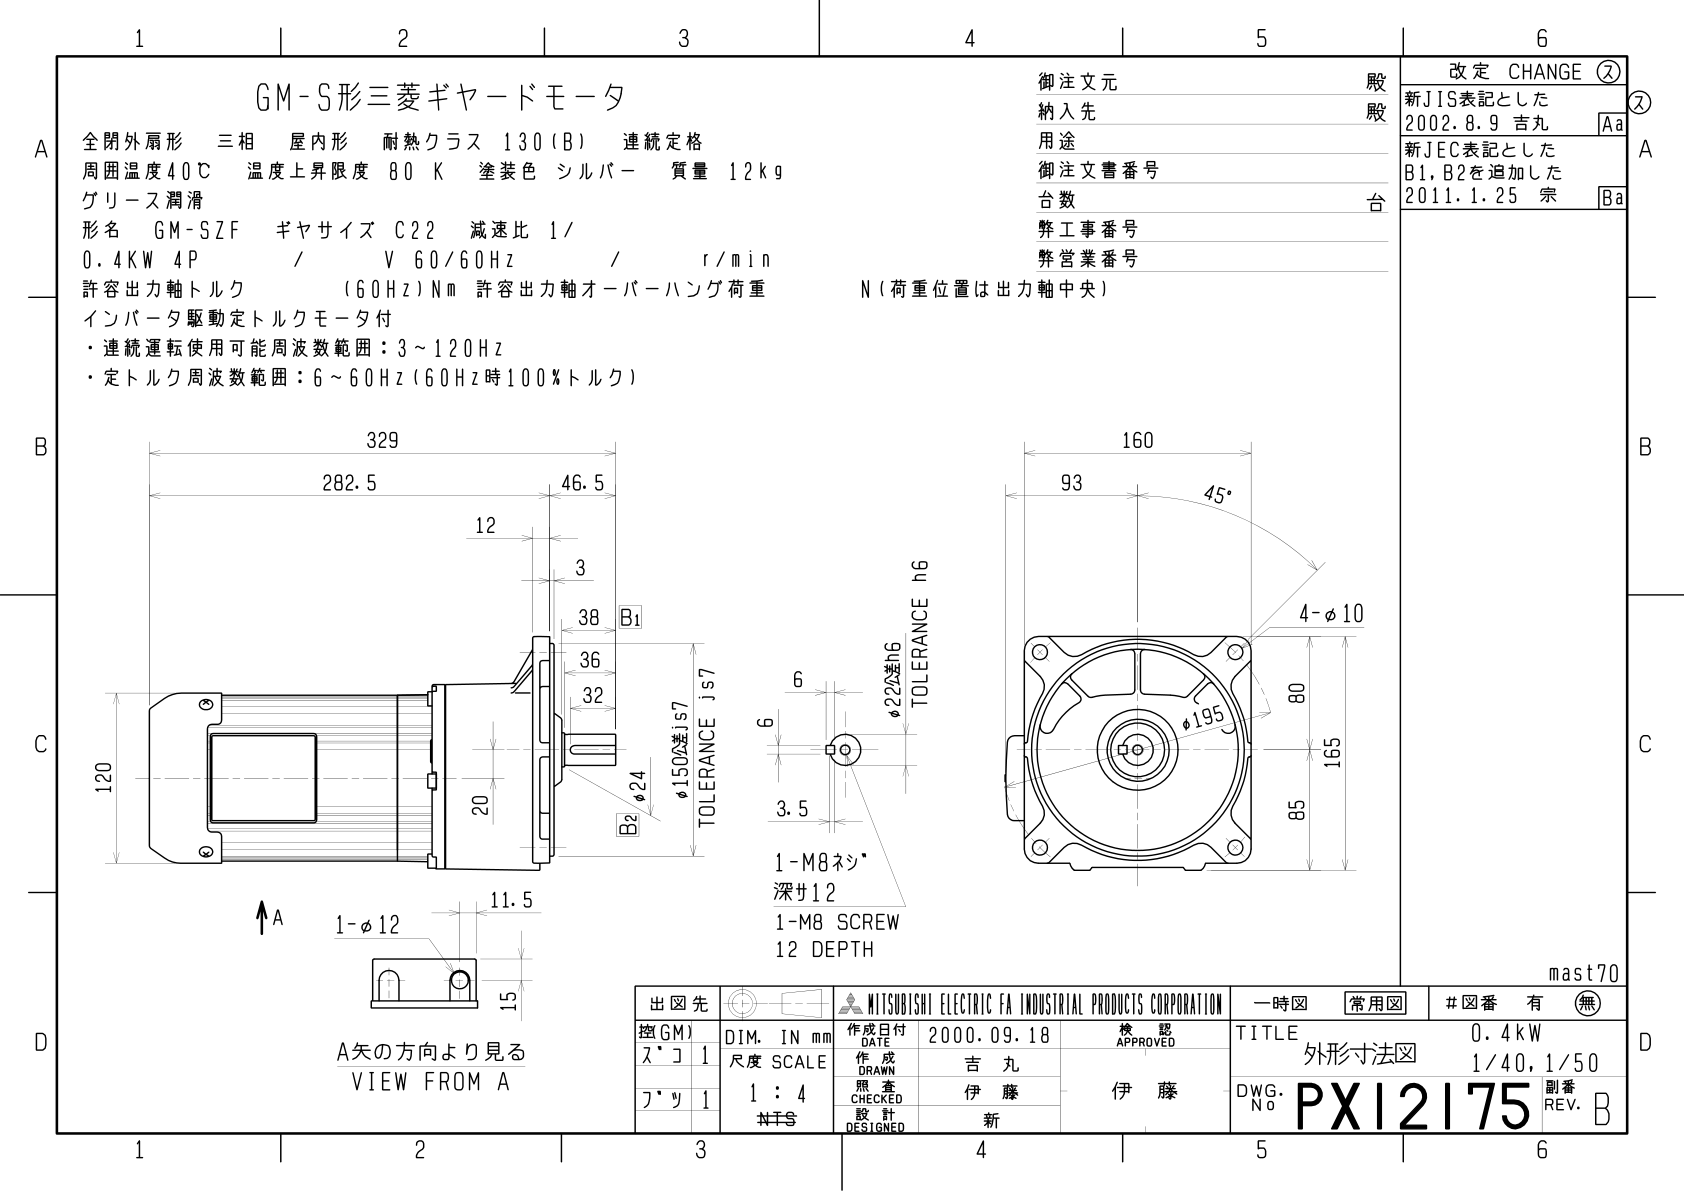GM_S_インバタ屋内＿三相_フランジ: (1, 1, 1678, 1172)
